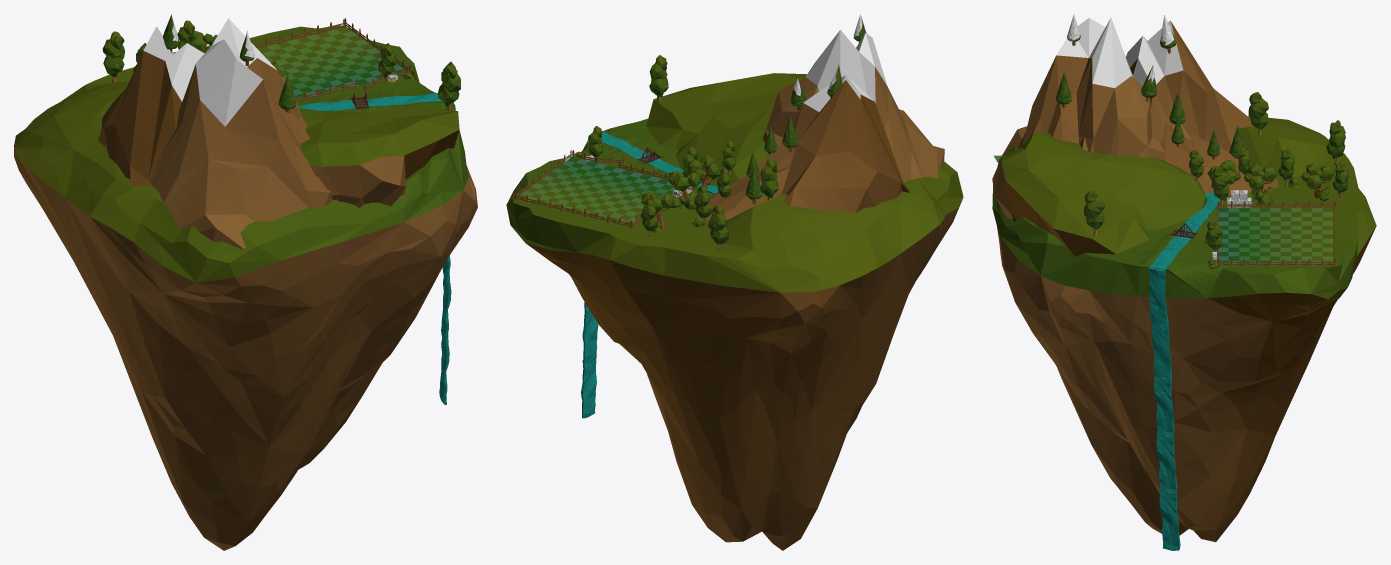
The model's file is scn_scene_1.FBX.
3 views of the same model, side by side, from view 1: azimuth 30°, elevation 25°; view 2: azimuth 150°, elevation 25°; view 3: azimuth 270°, elevation 25° (orthographic). The views are drawn at different scales.
Visible parts, largest first — view 1: scn_scene_1; view 2: scn_scene_1; view 3: scn_scene_1.
Part boxes in pixels (bbox=[...]): scn_scene_1: bbox=[14, 14, 477, 550]; scn_scene_1: bbox=[506, 14, 963, 550]; scn_scene_1: bbox=[992, 14, 1376, 550].
Size of the model in its own units: 3939 by 5436 by 3695.
